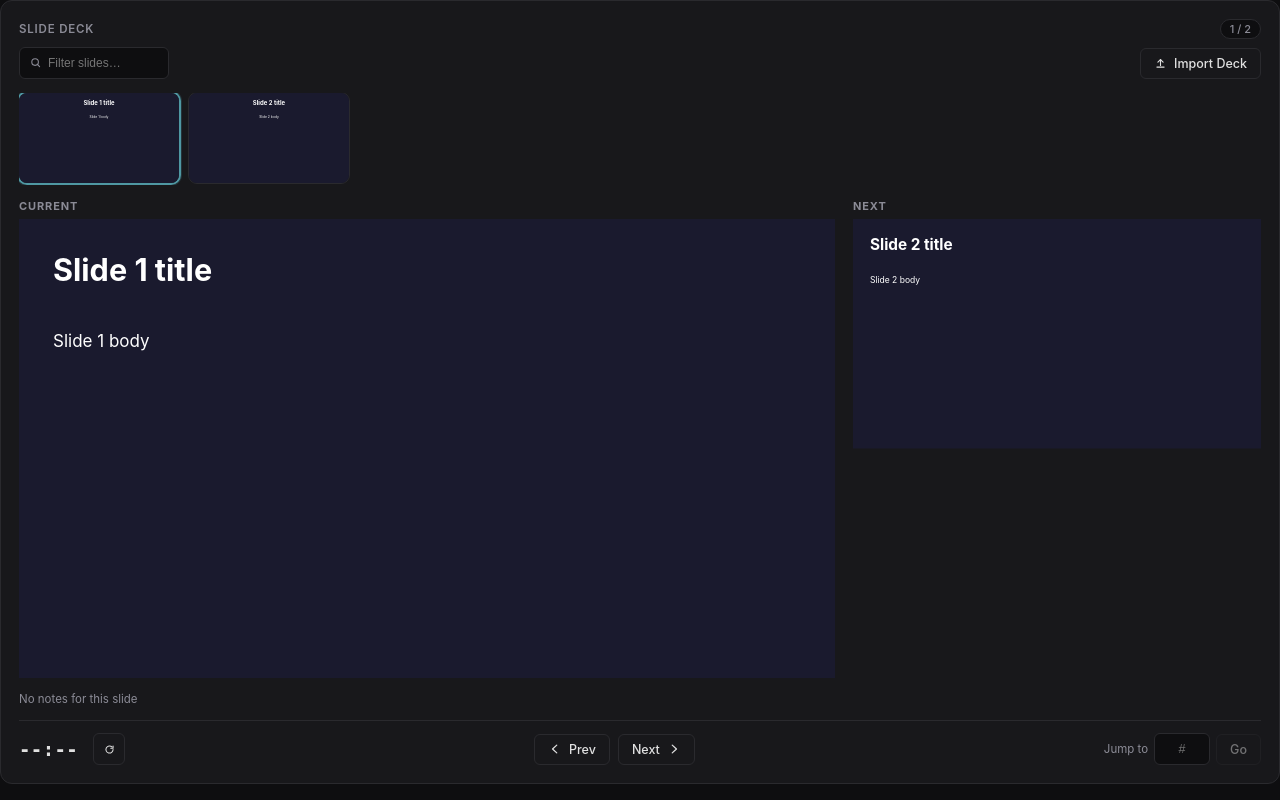
Test: SlideDeckPanel loaded state › Import Deck in the loaded state stages the picked path and keeps the live deck until confirmed
Expected: the button "Slide 1 title Slide 1 body" is shown, 19,93 -> 179,183
Click the button "Import Deck": (1200, 63) 1140,48 -> 1261,78
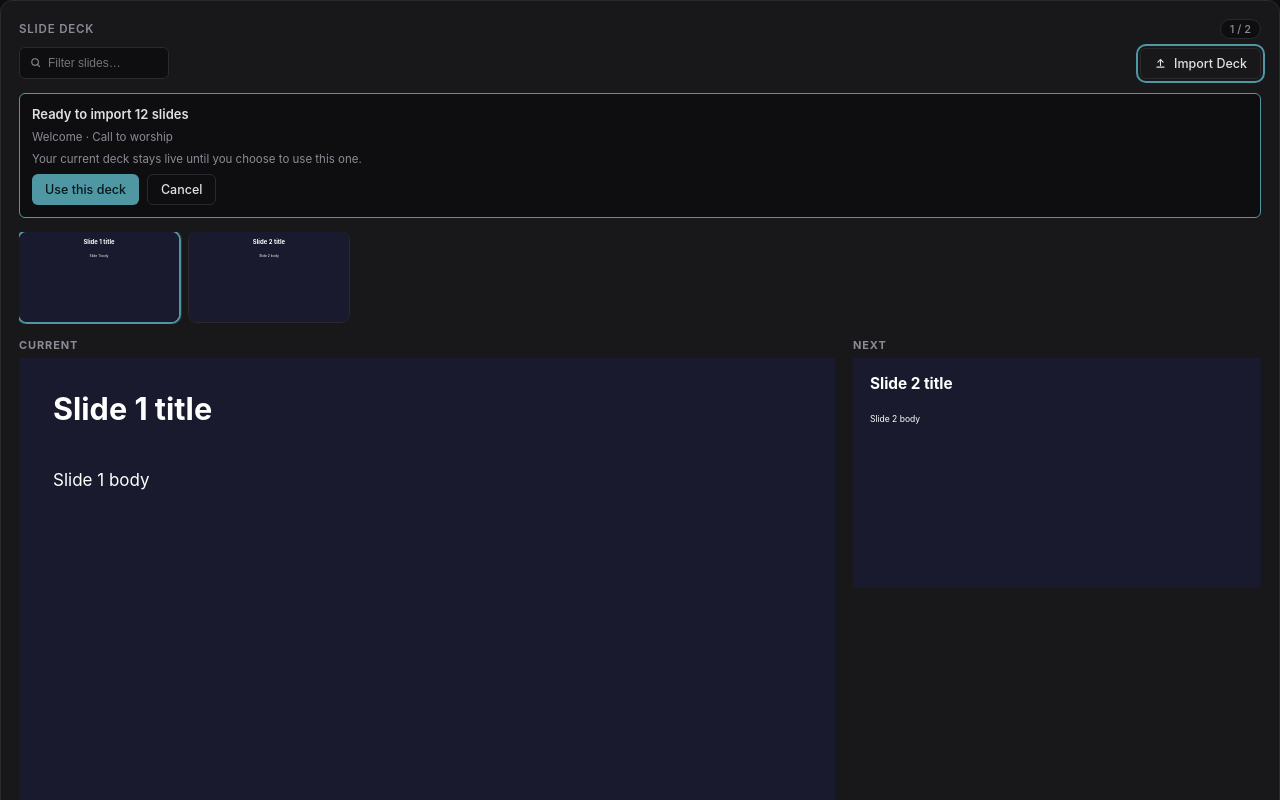
Expected: the button "Slide 1 title Slide 1 body" is shown, 19,232 -> 179,322
Expected: the element named "Pending import" is shown, 19,93 -> 1261,218
